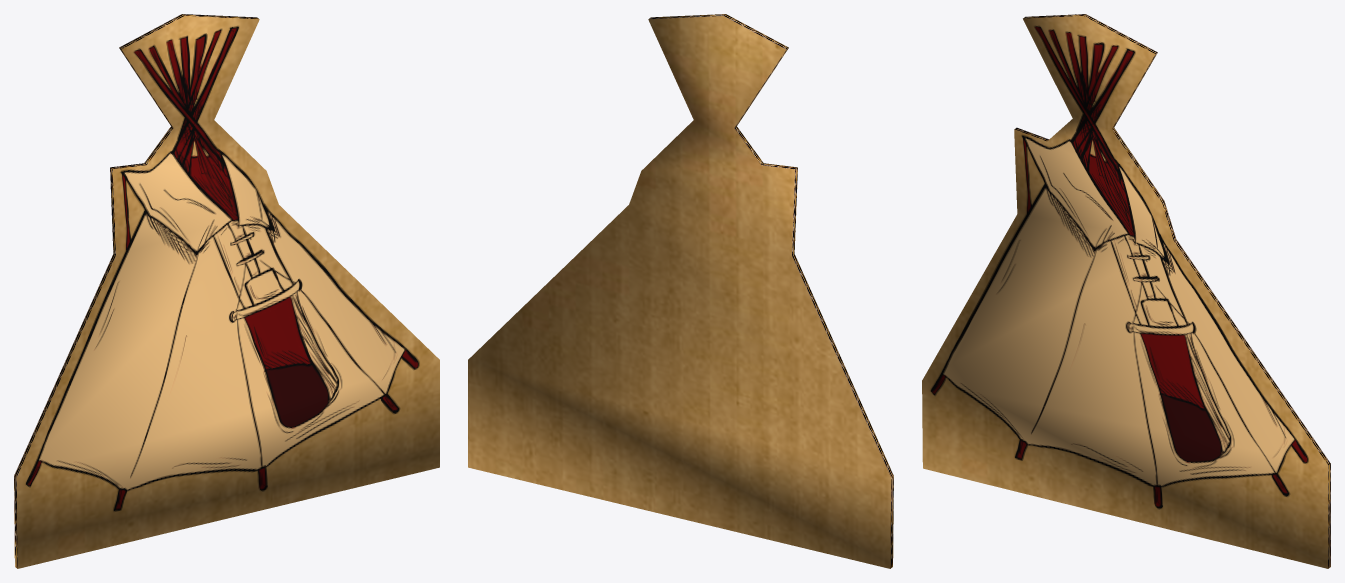
The model's file is AST_GRAPH_Tipi_GJ.fbx.
3 renders of one model, left to right at view 1: azimuth 30°, elevation 25°; view 2: azimuth 150°, elevation 25°; view 3: azimuth 330°, elevation 25°, orthographic. The views are drawn at different scales.
Visible parts, largest first — view 1: tipee; view 2: tipee; view 3: tipee.
Boxes of the visible parts, x1,y1,x2,y2 form: tipee: (14, 14, 439, 568); tipee: (468, 14, 893, 568); tipee: (922, 14, 1330, 568).
Size of the model in its own units: 63.44 by 73.6 by 0.7272.
